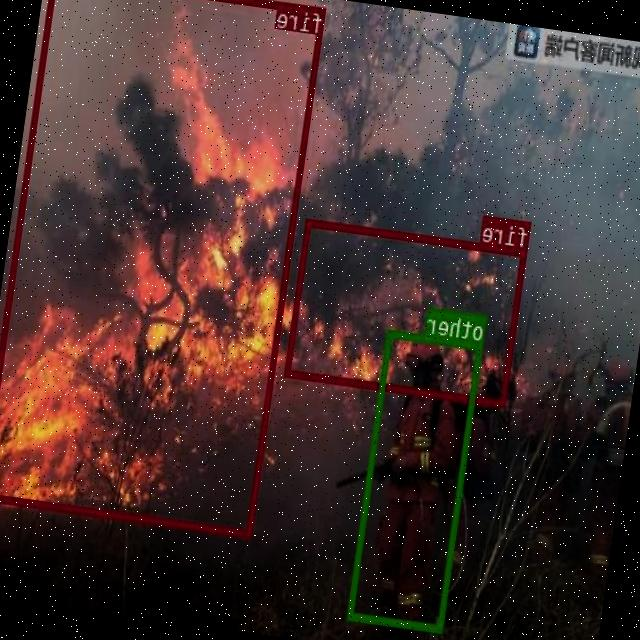fire: (0, 0, 327, 537), (285, 218, 528, 406)
